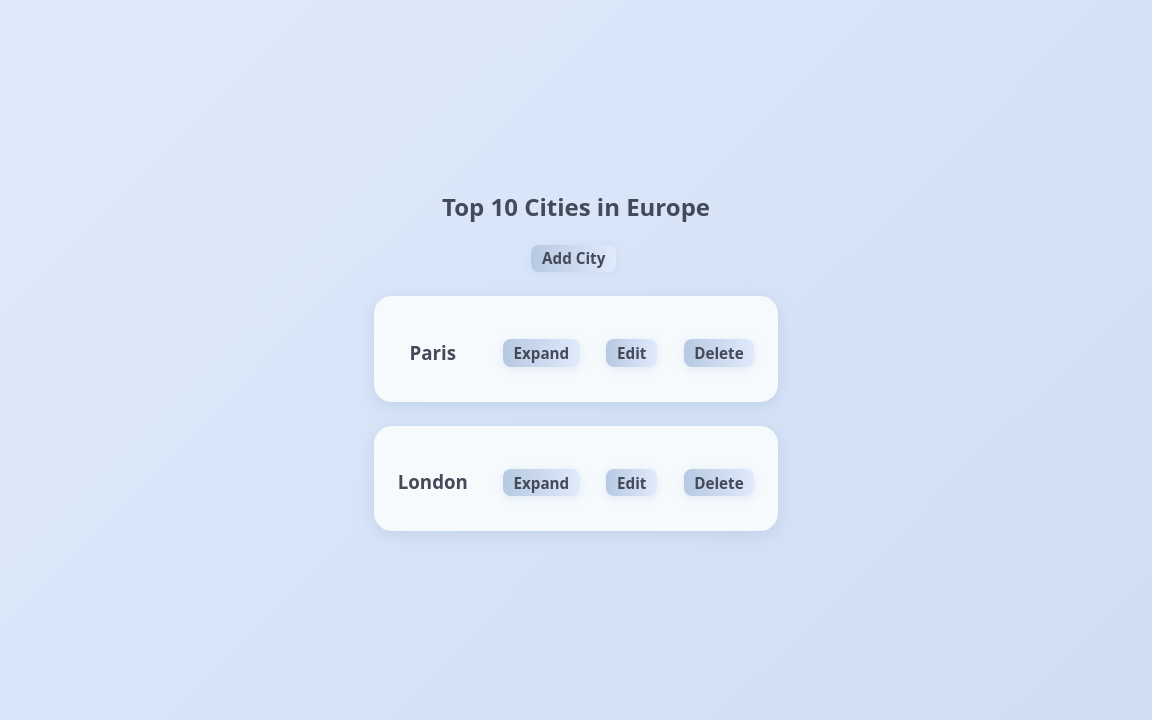
Test case: CityList › expands and collapses city details
Expected: the text "Attractions" is not shown
Note: Expand Paris
Click the button "Expand" next to "Paris".
click(541, 353)  # box [503,339,580,367]
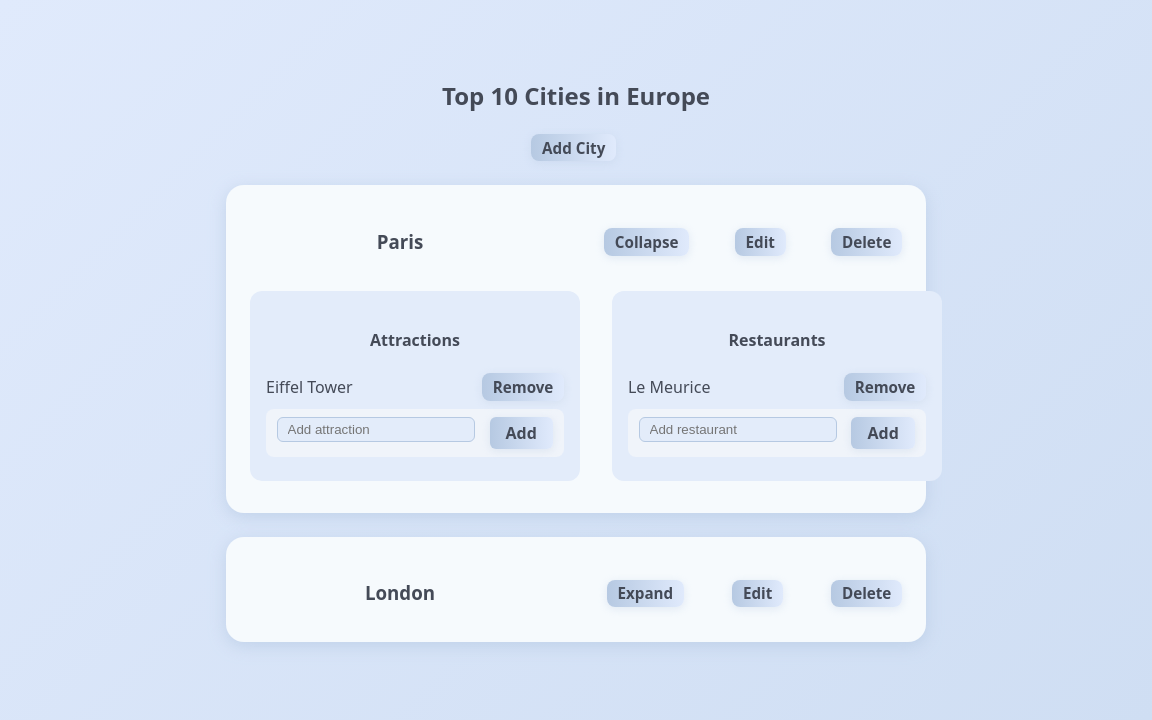
Result: the heading "Attractions" is shown at [370,329,460,351]
Result: the heading "Restaurants" is shown at [728,329,826,351]
Note: Collapse Paris
Click the button "Collapse".
click(647, 242)  # box [604,228,689,256]
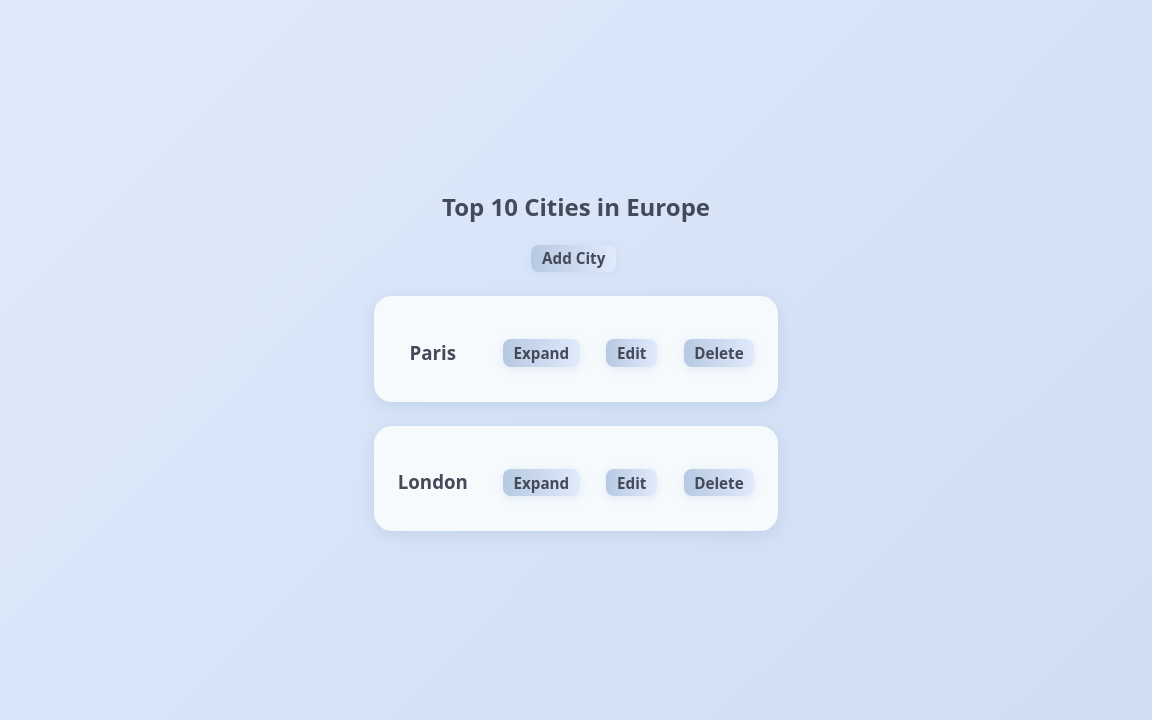
Result: the heading "Attractions" is gone
